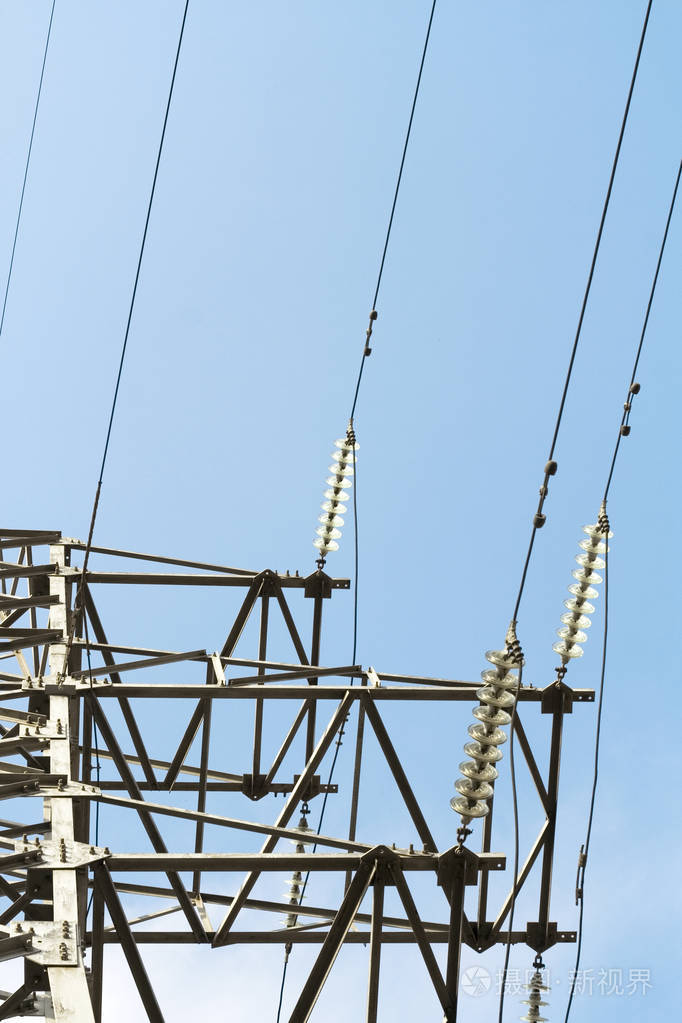insulator: (447, 648, 529, 822), (556, 524, 606, 660), (312, 438, 353, 551), (517, 980, 551, 1020)
